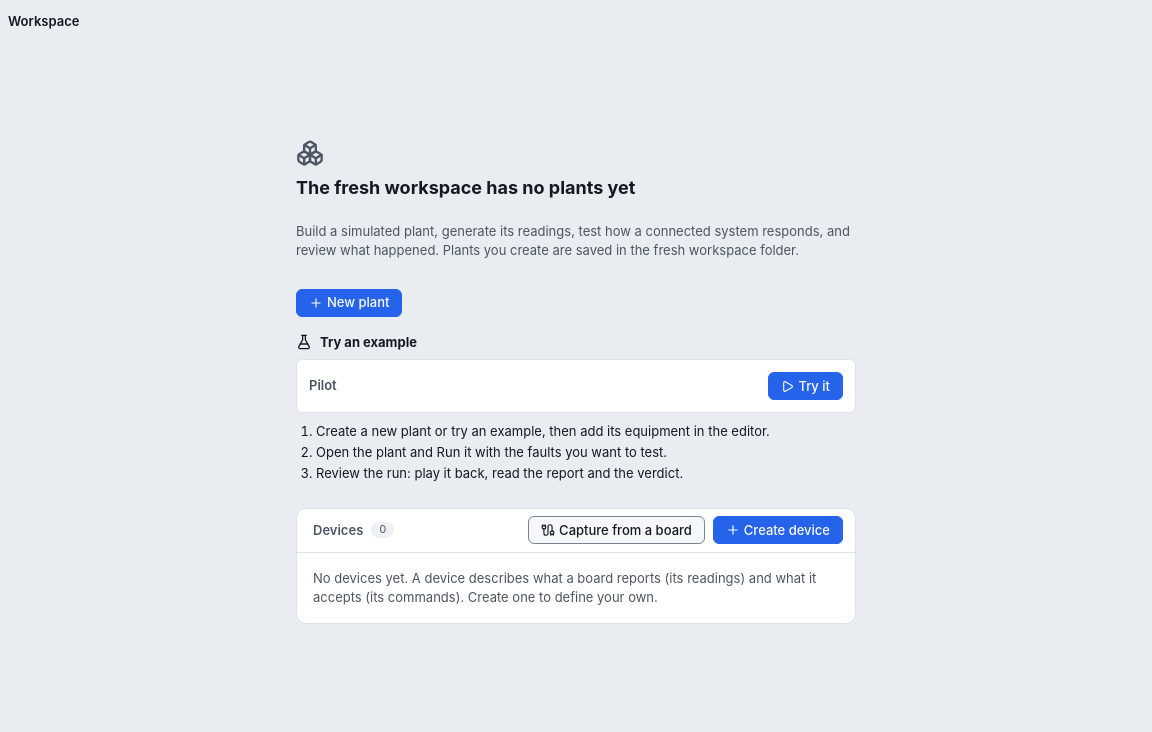
Test case: workspace screen › says why an example could not be set up
This screenshot has width=1152, height=732.
Click the button named "Try it: Pilot".
click(806, 386)  # box [768,372,843,400]
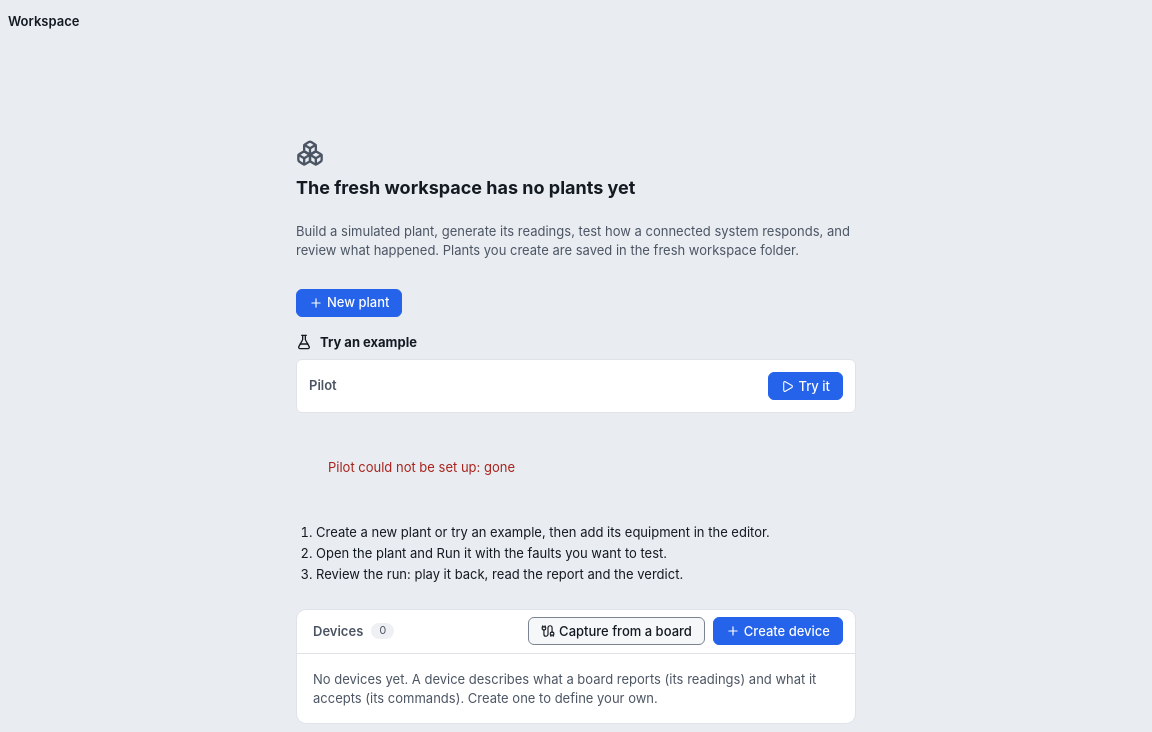
Expected: the message reads "Pilot could not be set up: gone", [328,460,515,476]
